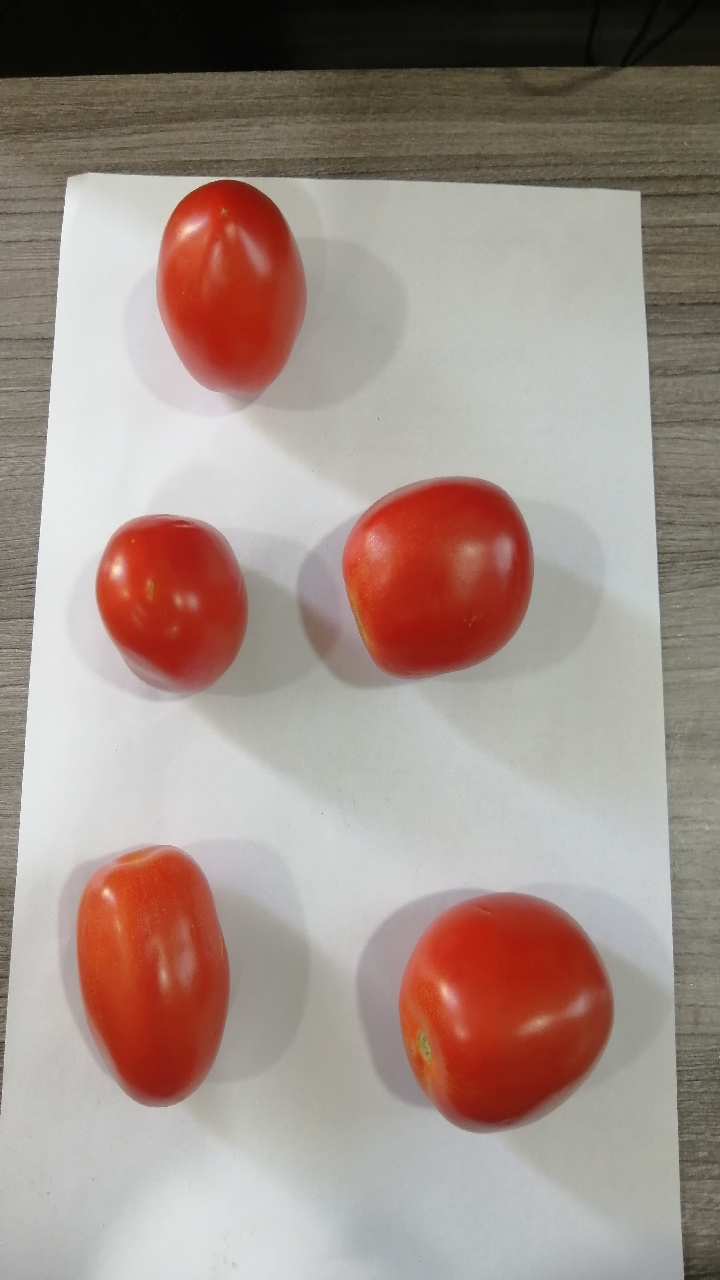tomateRojo: (381, 872, 631, 1151), (312, 465, 554, 697), (68, 809, 241, 1129), (131, 165, 340, 414), (94, 488, 263, 720)
